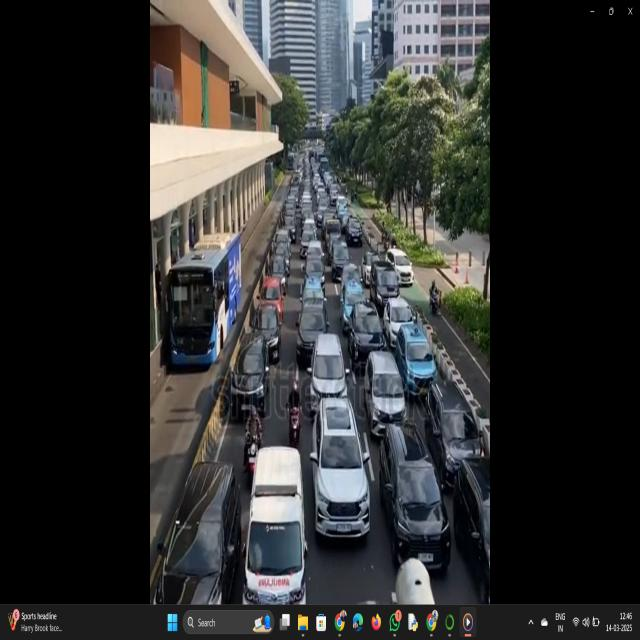Ambulance: (237, 442, 310, 603)
